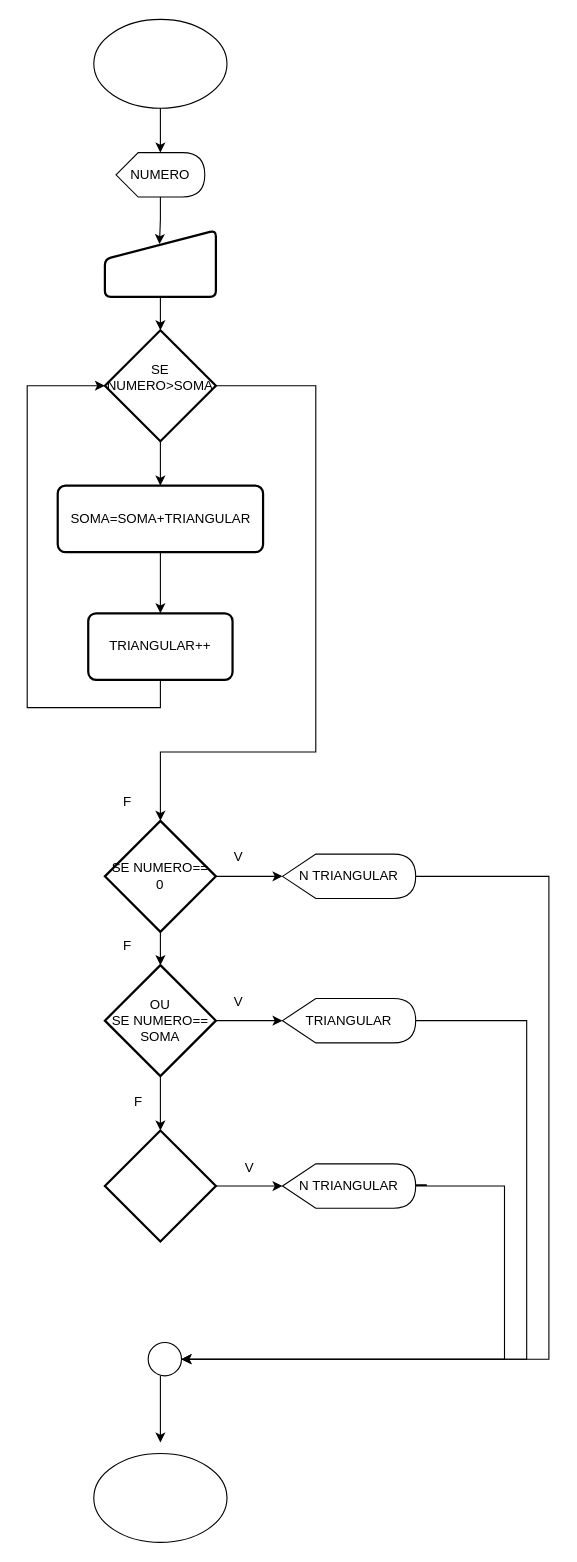
The diagram is 577 pixels wide and 1562 high, and some of its shapes have lost their labels. Each missing label, with the box of its shape:
FINAL: (93, 1452, 227, 1542)
INICIO: (93, 18, 227, 108)
ou: (103, 1129, 216, 1242)
VARIAVEL N: (103, 229, 216, 297)
